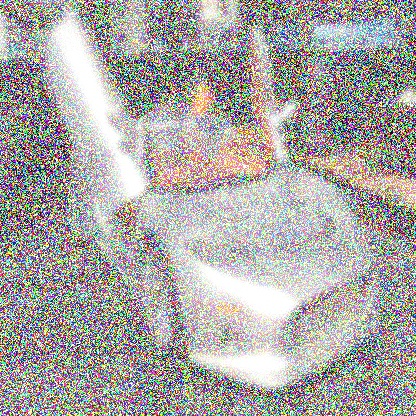Vehicle: (41, 1, 383, 398)
